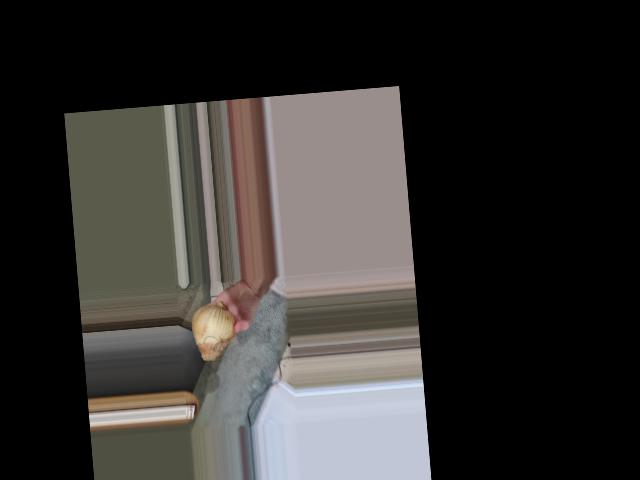onion: (193, 304, 240, 363)
